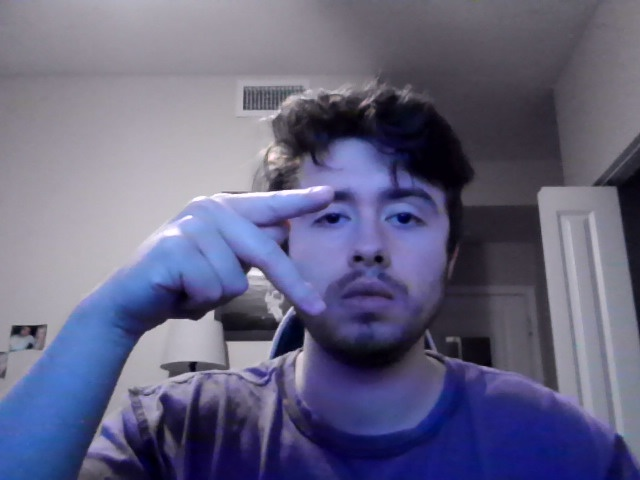p: (97, 185, 333, 345)
